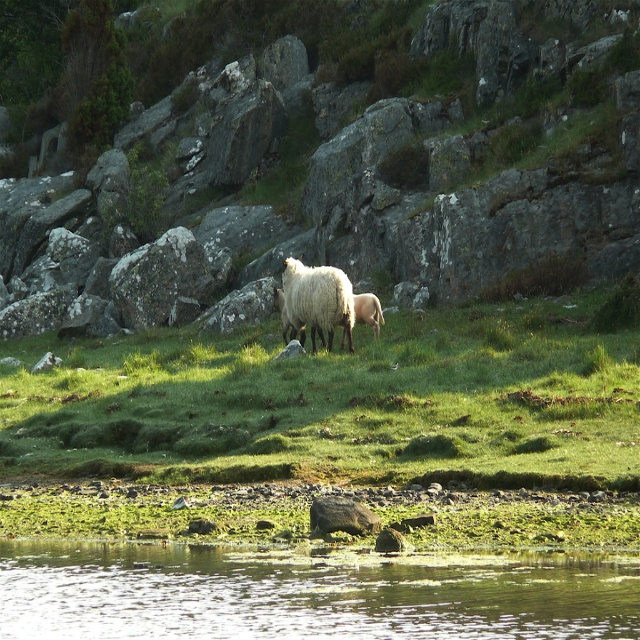Sheep: (275, 256, 354, 353)
